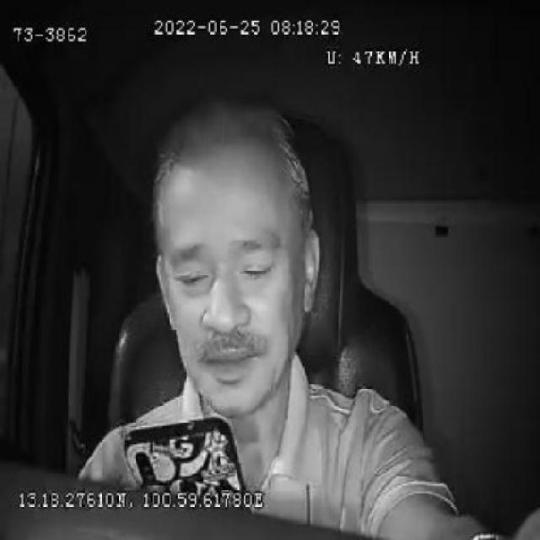phone: (124, 415, 246, 492)
